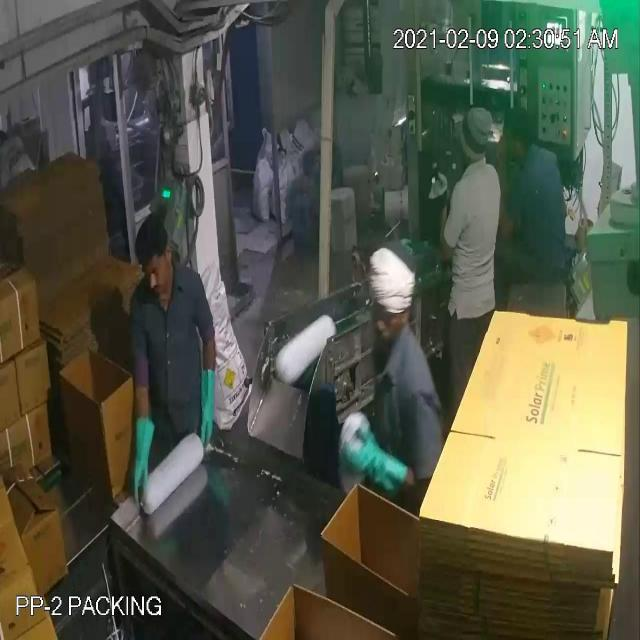Gloves: (30, 84, 448, 456)
